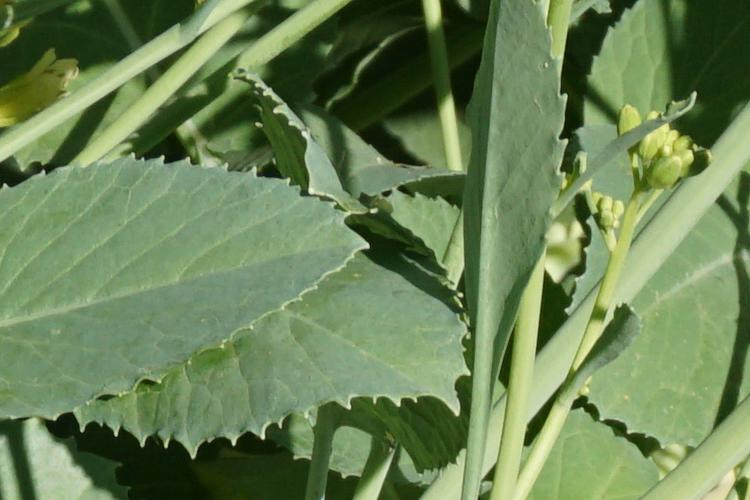bud: (650, 151, 682, 195), (616, 105, 642, 149), (645, 111, 664, 159), (672, 133, 691, 155), (599, 195, 614, 210), (614, 200, 626, 218), (589, 189, 602, 205), (661, 142, 674, 158)
